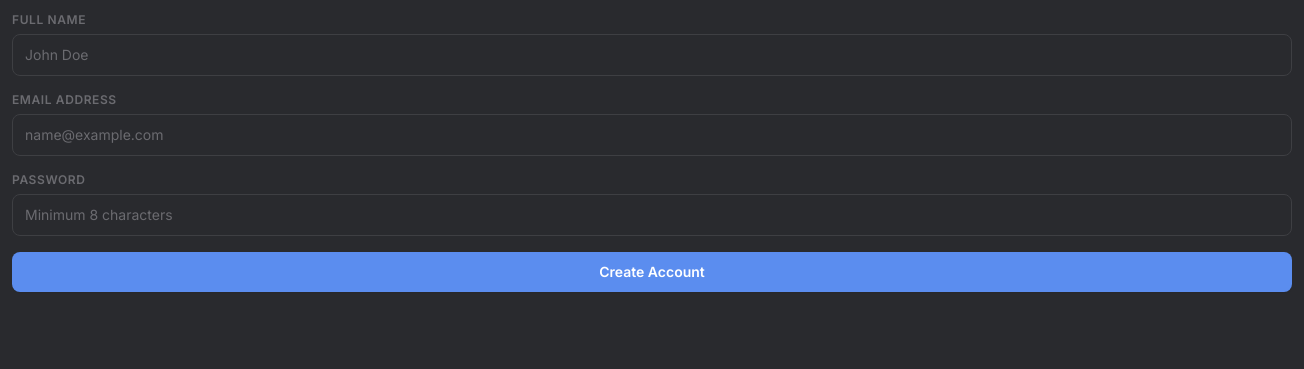
SignUpForm › shows validation errors for empty fields
Click the button "Create Account". click: [652, 272]
box: [12,252,1292,292]
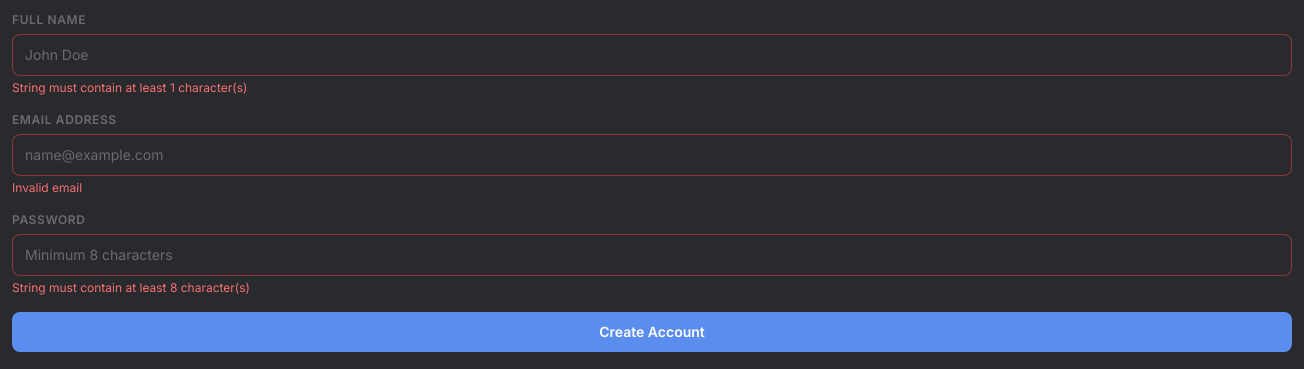
Check: the text "Invalid email" is shown, box [12,180,82,195]
